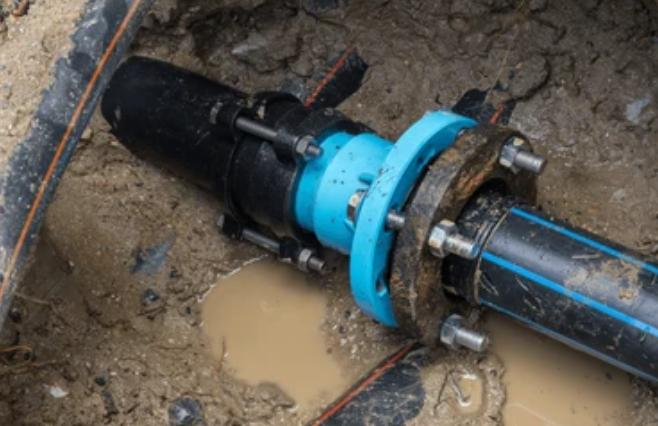water accumulation: (196, 248, 346, 413), (475, 307, 633, 426)
